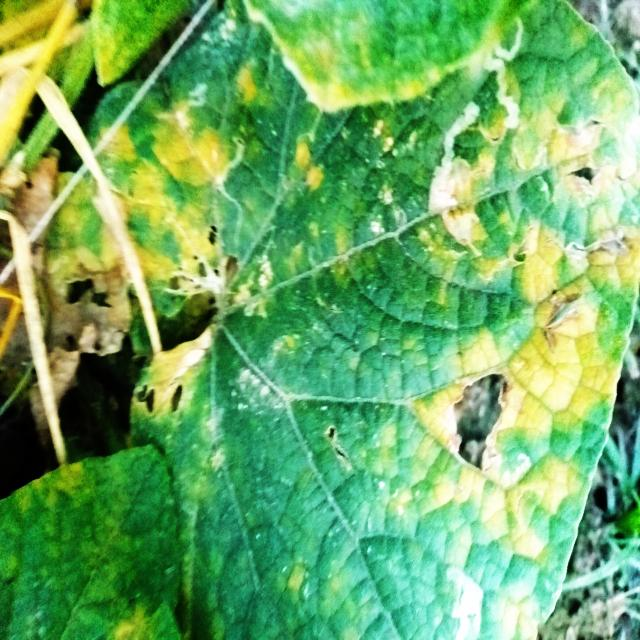Anthracnose: (447, 368, 512, 473), (163, 217, 245, 300), (133, 373, 186, 416)
